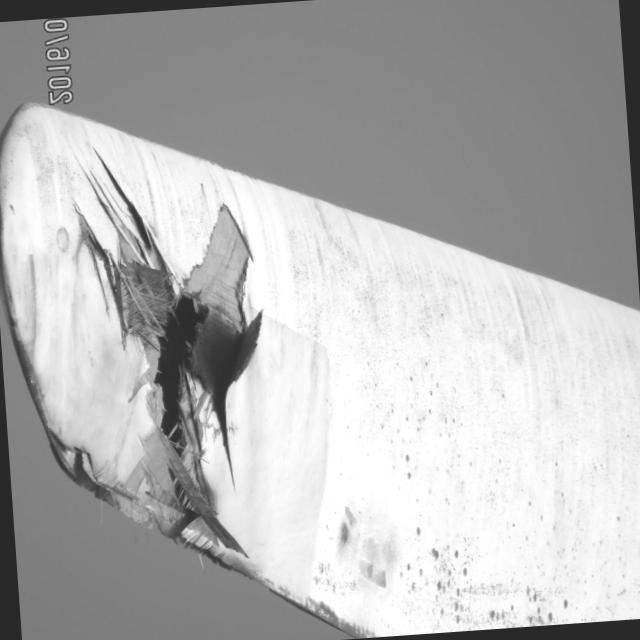crack: (40, 135, 276, 578)
